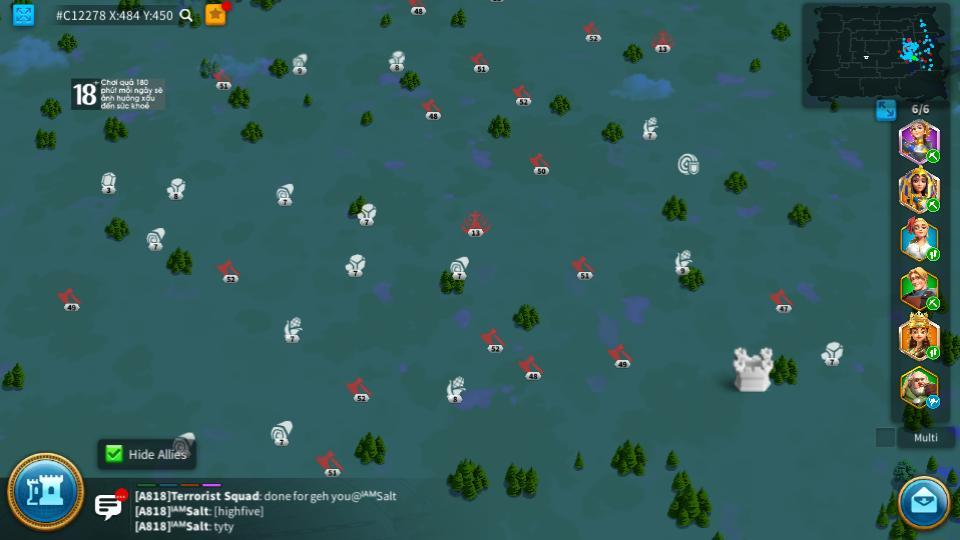gem-z-out: (98, 171, 117, 192)
march_idle: (925, 396, 942, 408)
march_marching: (925, 197, 941, 212), (925, 150, 942, 162), (923, 248, 940, 260), (925, 347, 941, 359), (925, 297, 942, 308)
